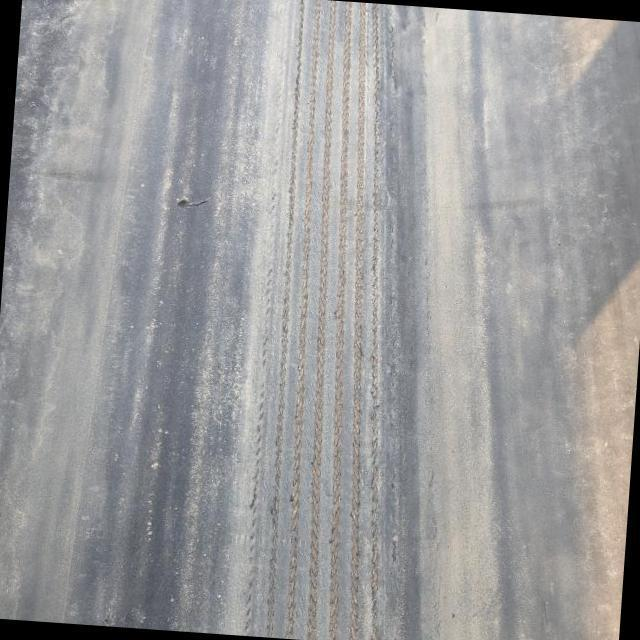Puncture: (170, 192, 197, 212)
Wear: (231, 0, 400, 636)
